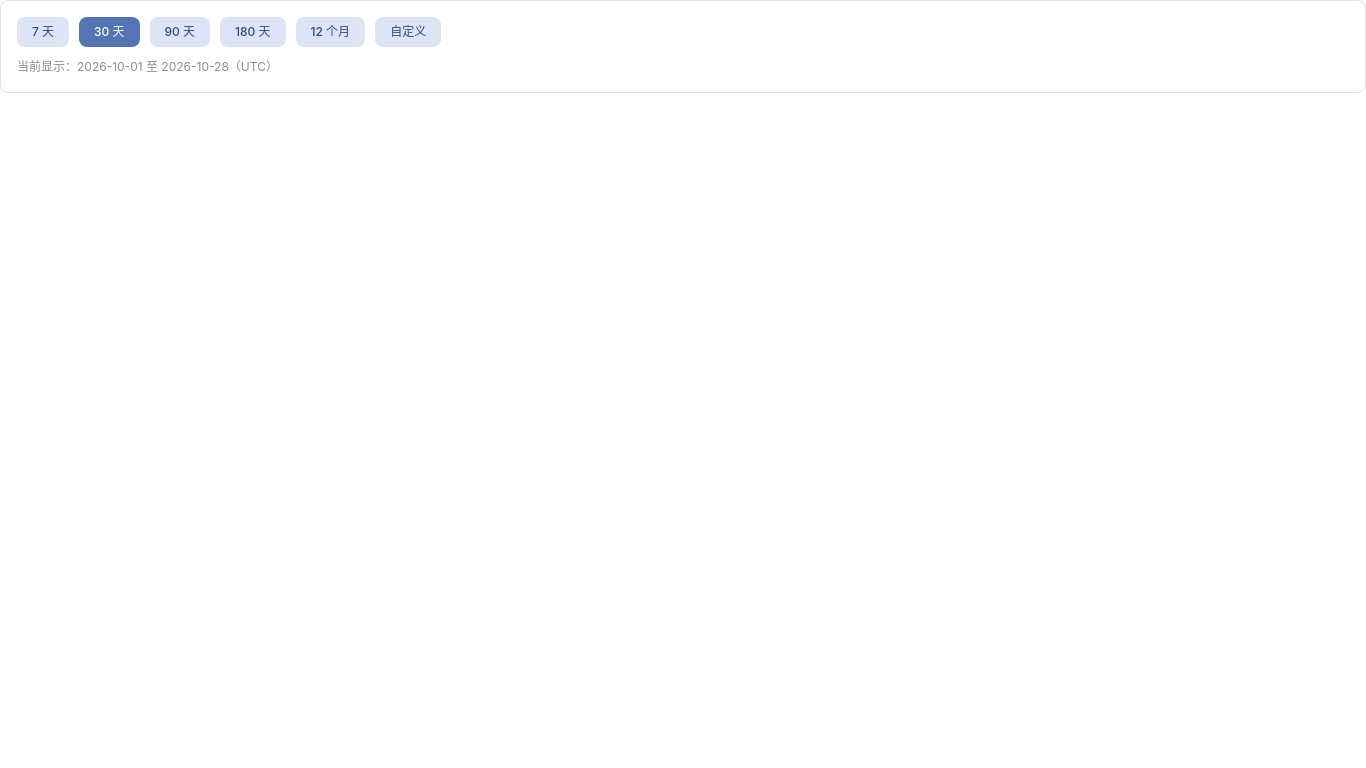
Test: developer calendar range picker › applies 7 inclusive days from the selected start in one click
The width and height of the screenshot is (1366, 768).
Click the button "自定义" at (408, 32), box left=375, top=17, right=441, bottom=47
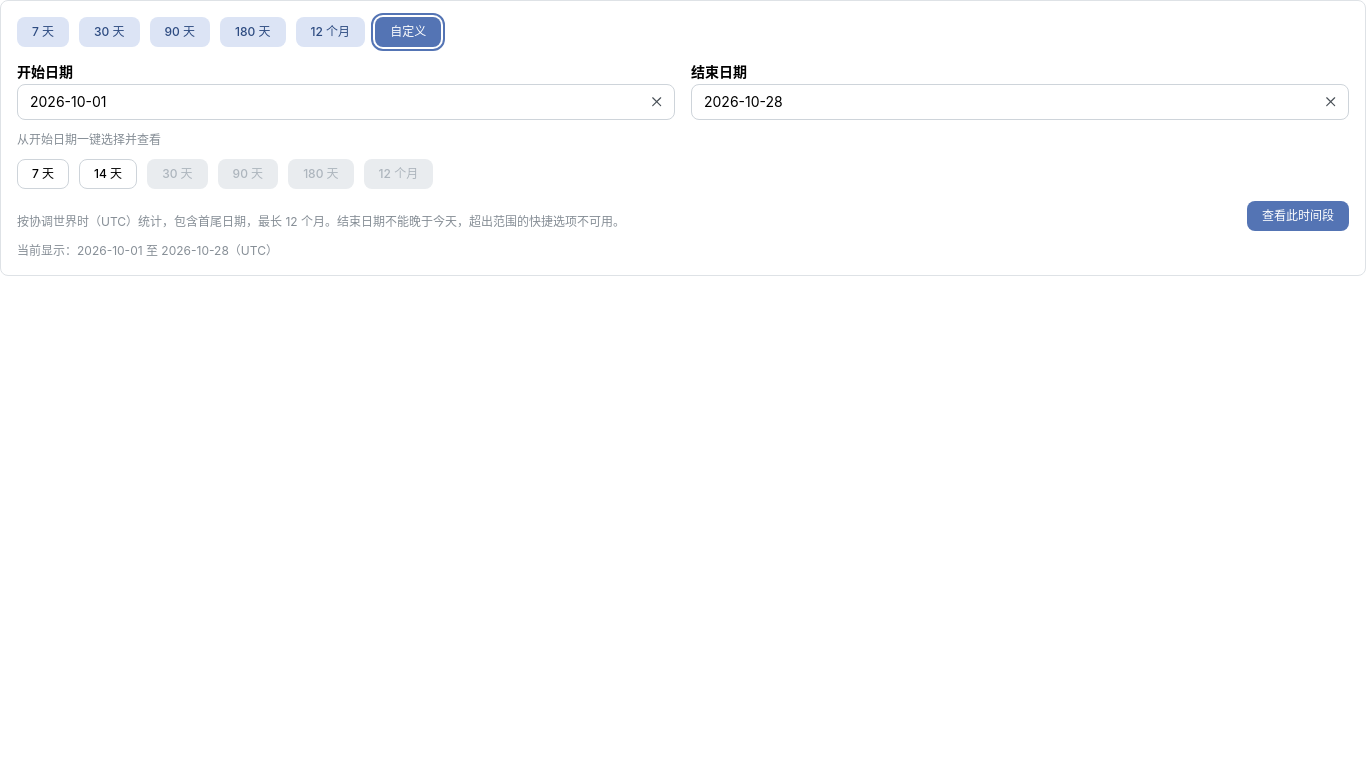
Click the button named "开始日期" at (68, 101), box left=17, top=84, right=675, bottom=120
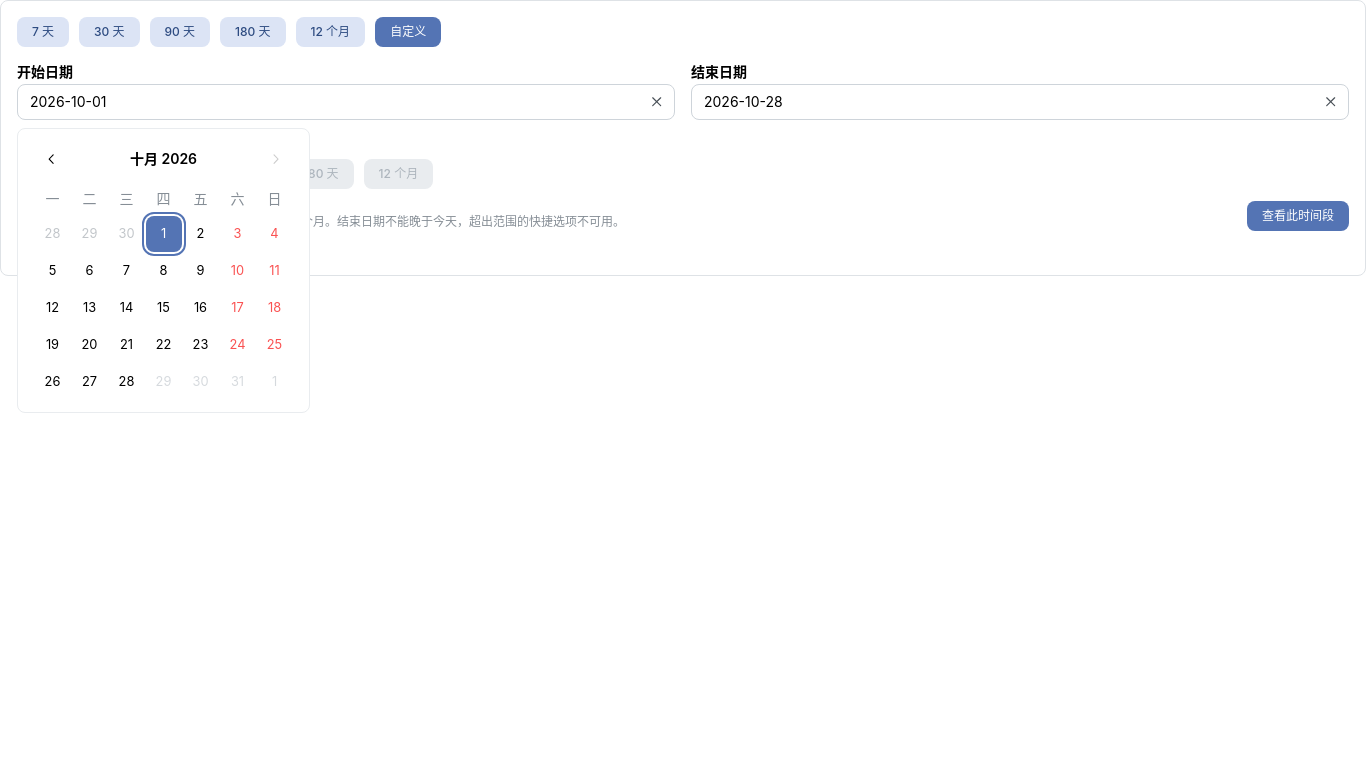
Click the button named "2026-10-03" at (238, 234), box left=220, top=216, right=256, bottom=252
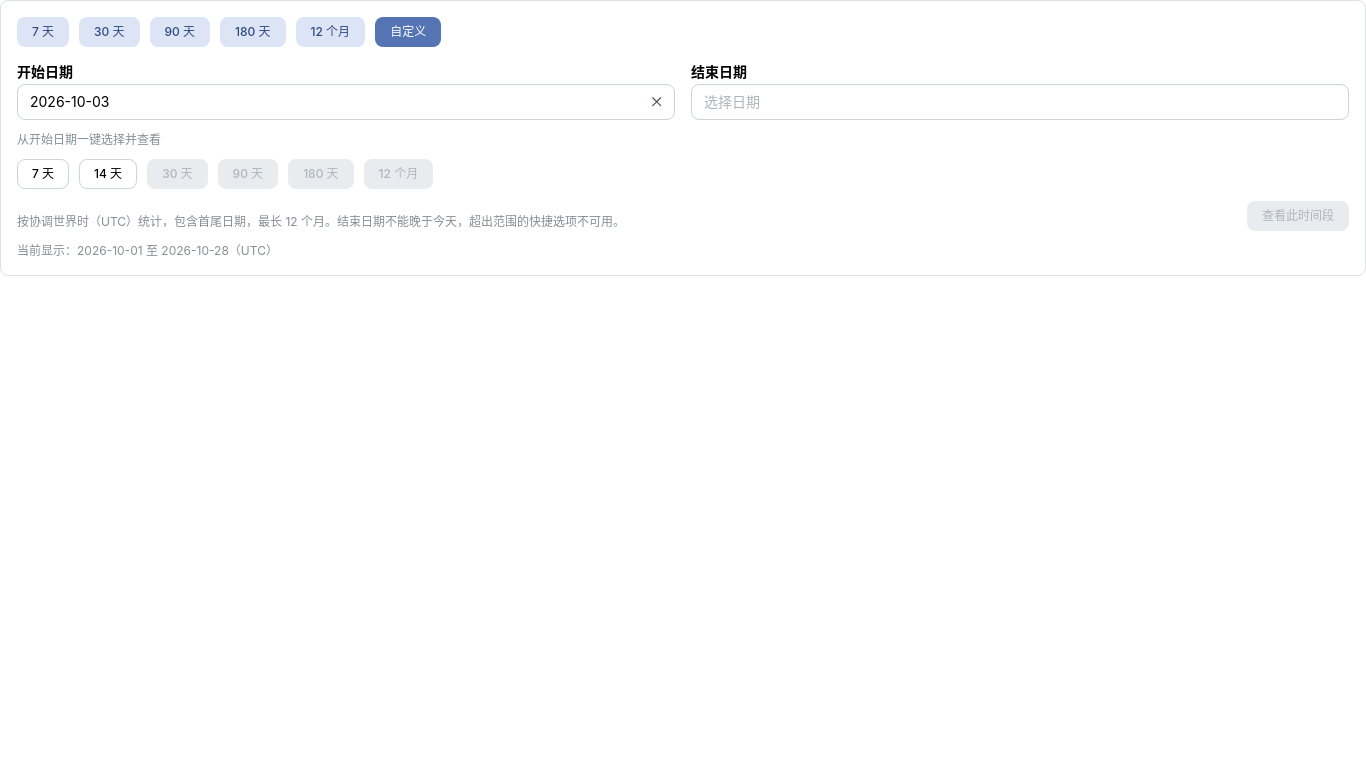
Click the button "7 天" below "从开始日期一键选择并查看" at (43, 174), box left=17, top=159, right=69, bottom=189
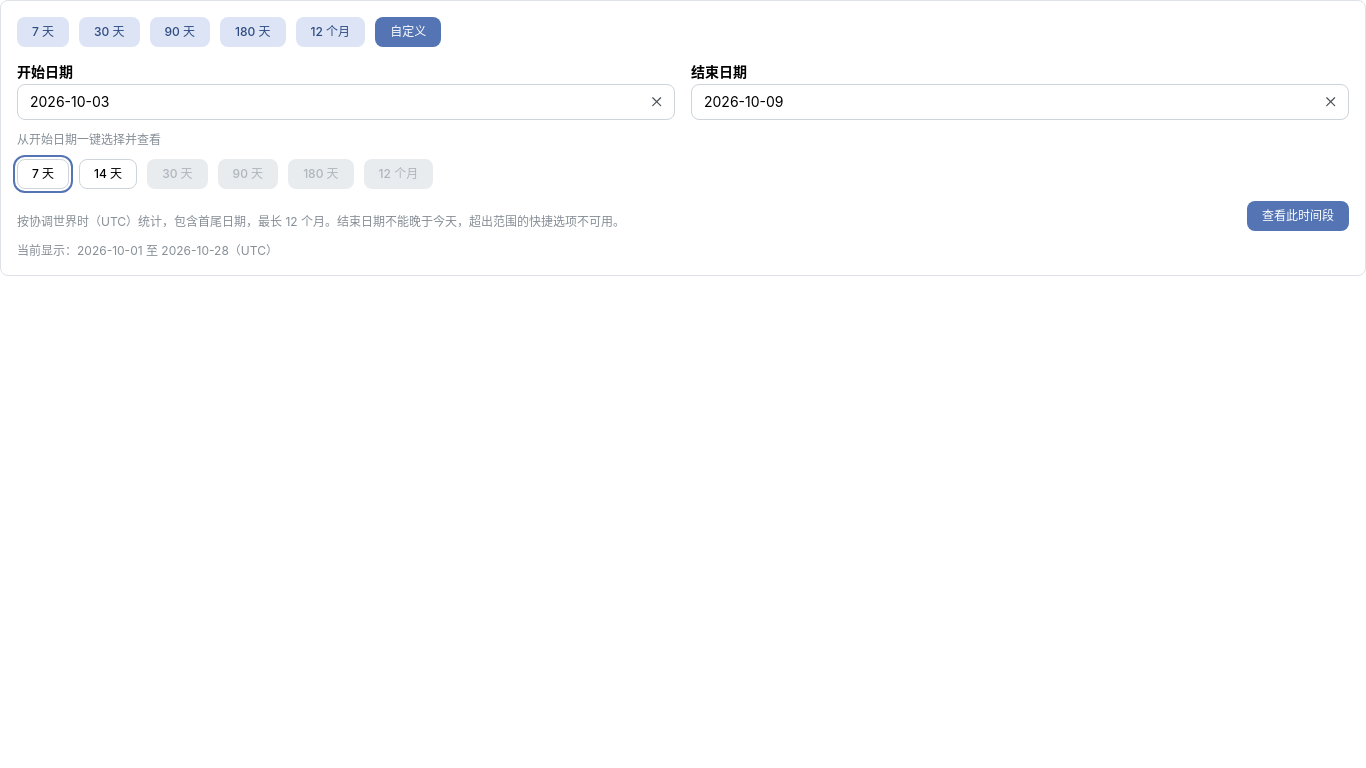
Expected: the button named "结束日期" reads "2026-10-09", left=691, top=84, right=1349, bottom=120
